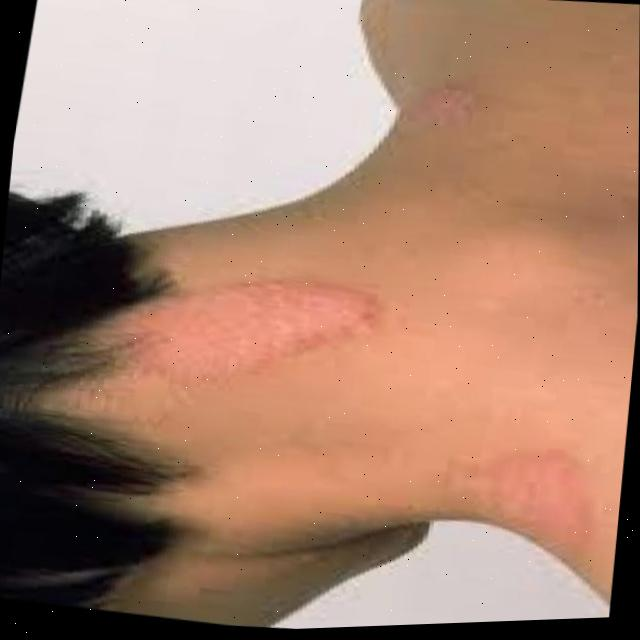Eczema: (87, 246, 371, 392), (464, 445, 570, 537), (419, 60, 471, 125)
